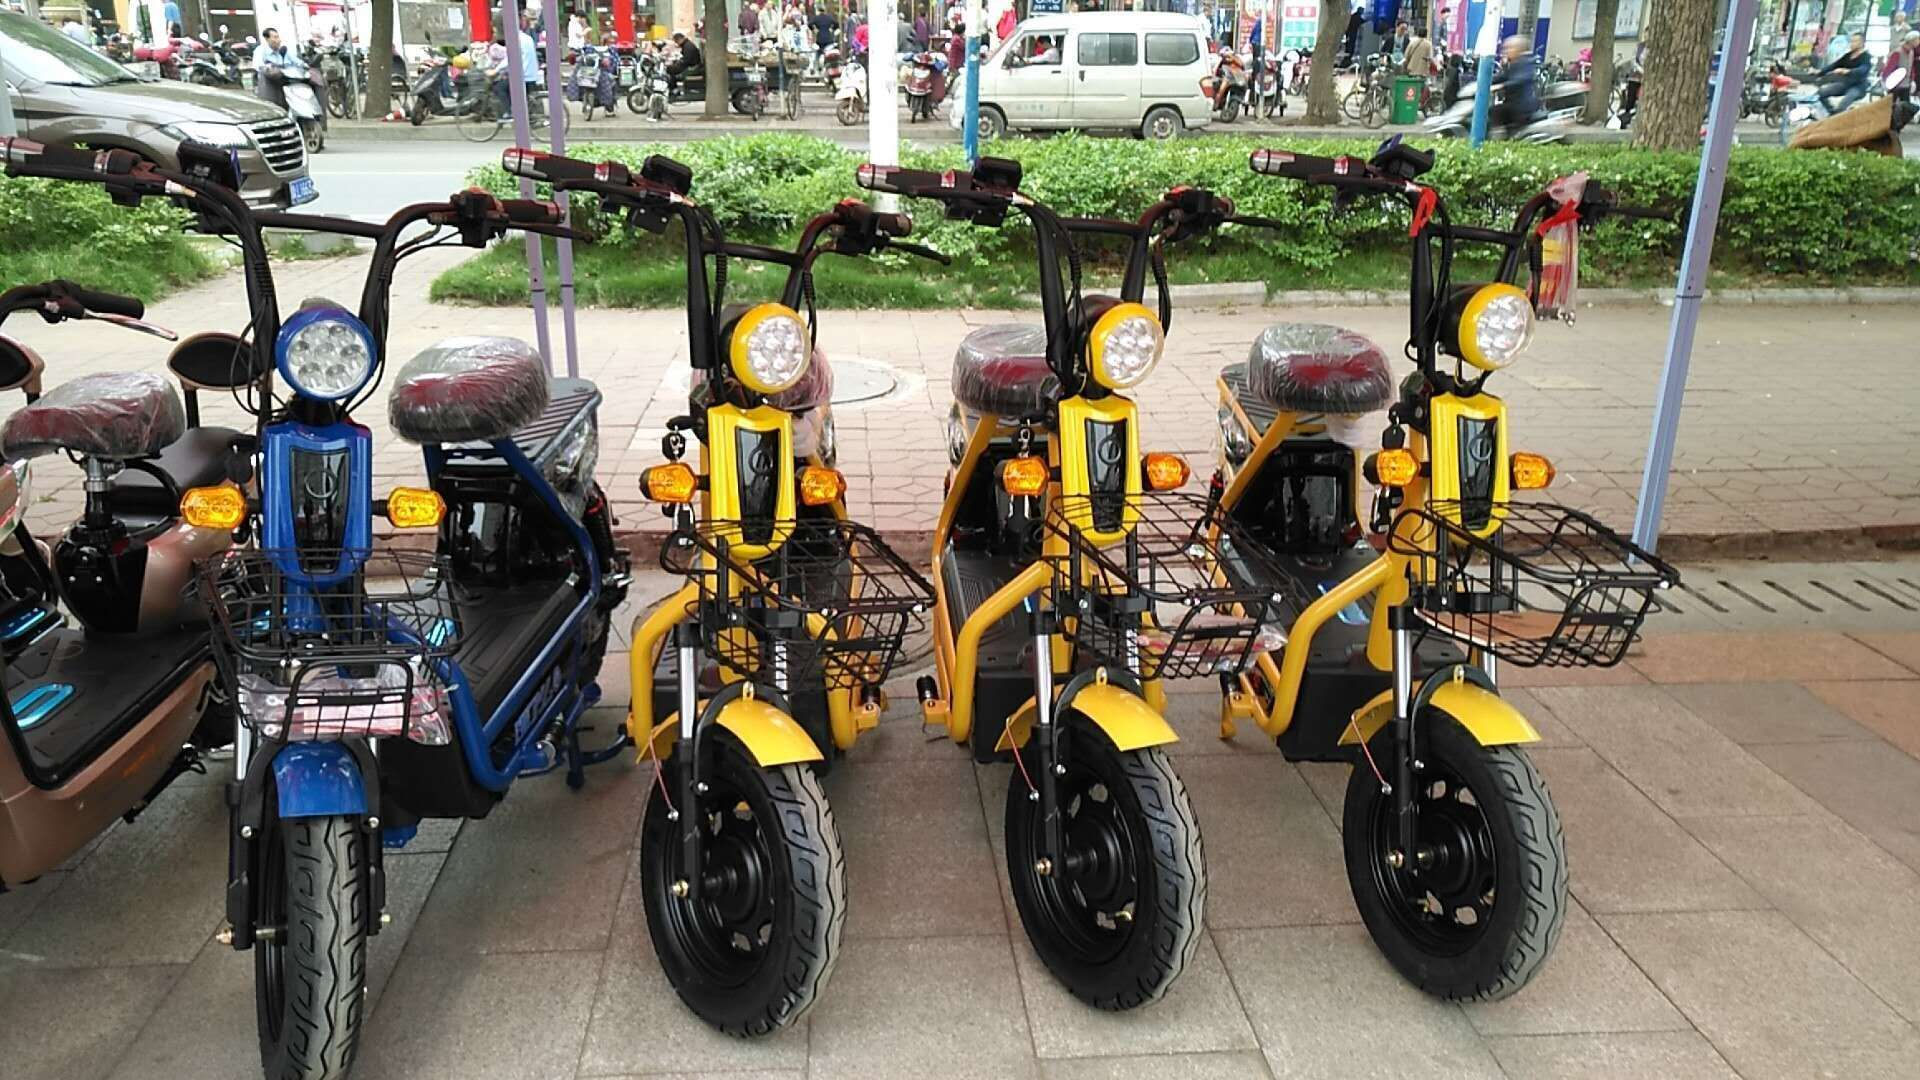电动车: (47, 117, 629, 1080), (527, 115, 939, 1051), (851, 123, 1245, 1056), (1228, 154, 1636, 1029)
